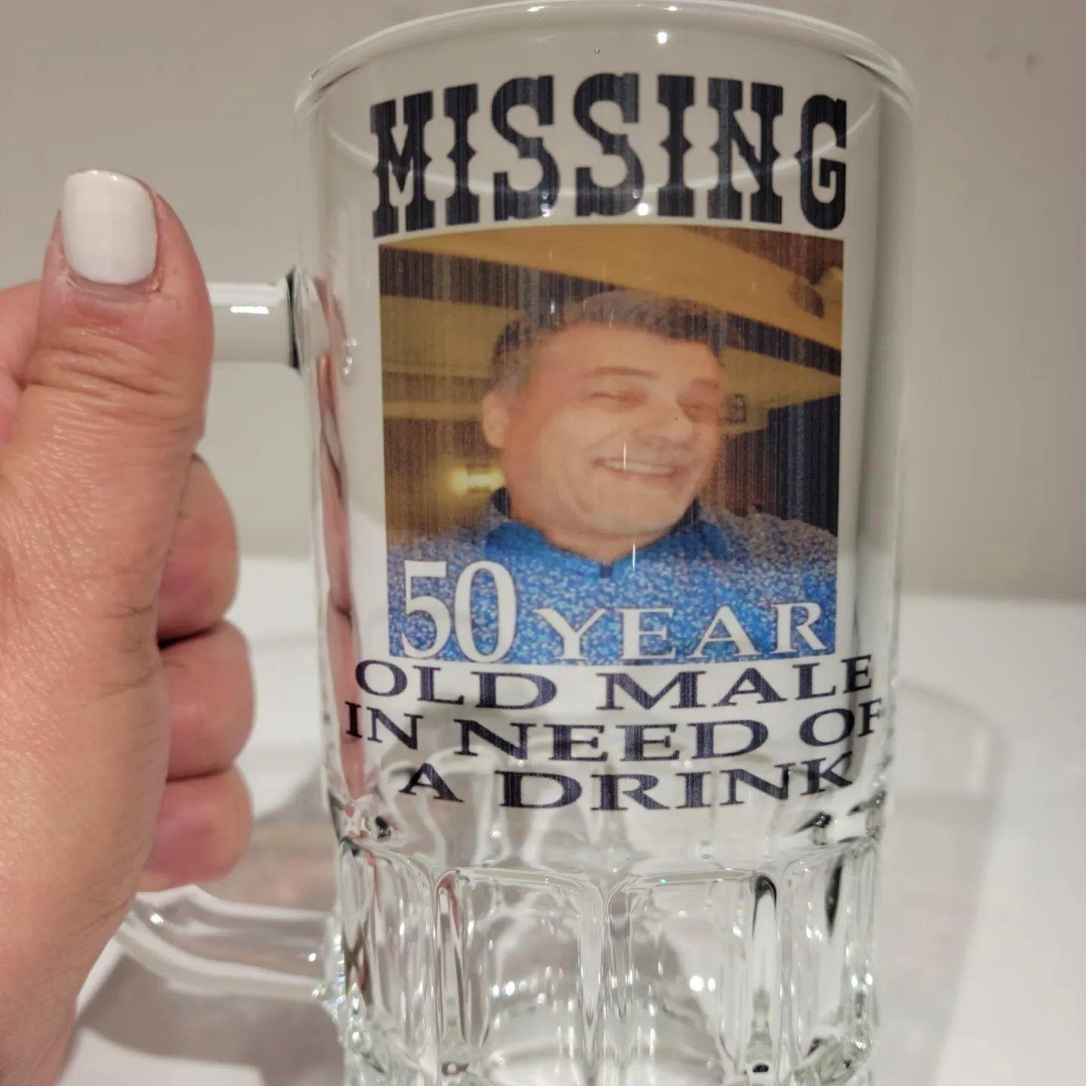glass-mug: (81, 0, 942, 1085)
